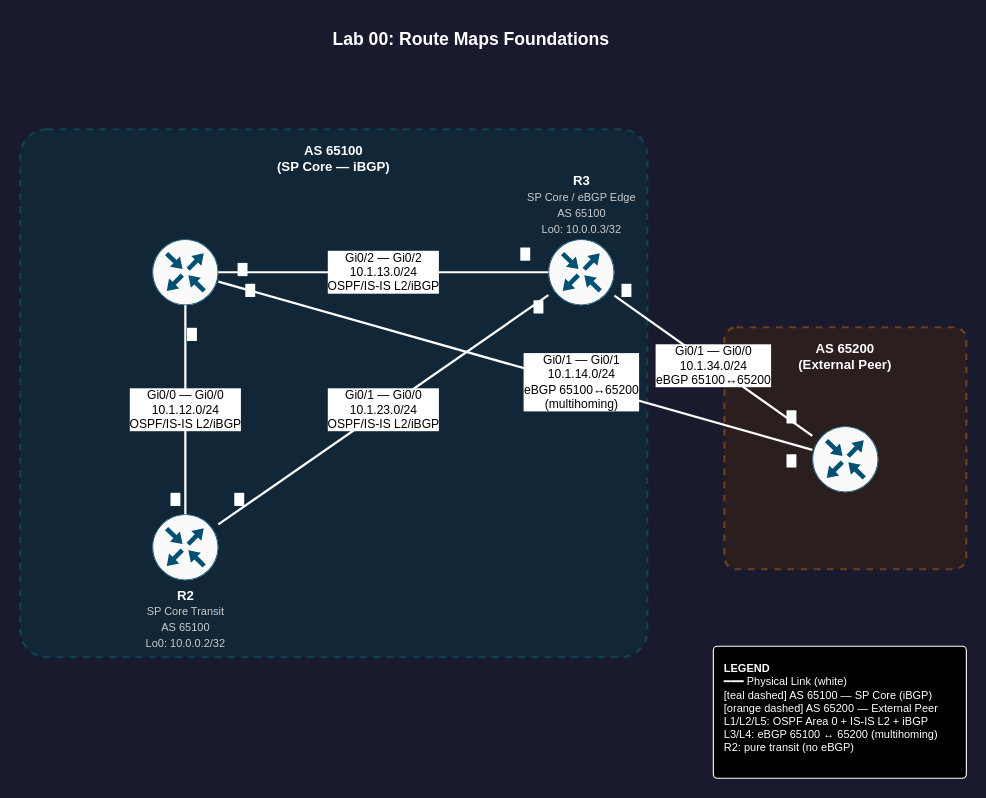
Image size: 986x798. Some labels were removed from this diagram. Here are the shapes that lost their labels. From the top down, the centre of each, then its label:
pixel 184 271: R1 SP Core / eBGP Edge AS 65100 Lo0: 10.0.0.1/32
pixel 844 458: R4 External Peer AS 65200 Lo0: 10.0.0.4/32
